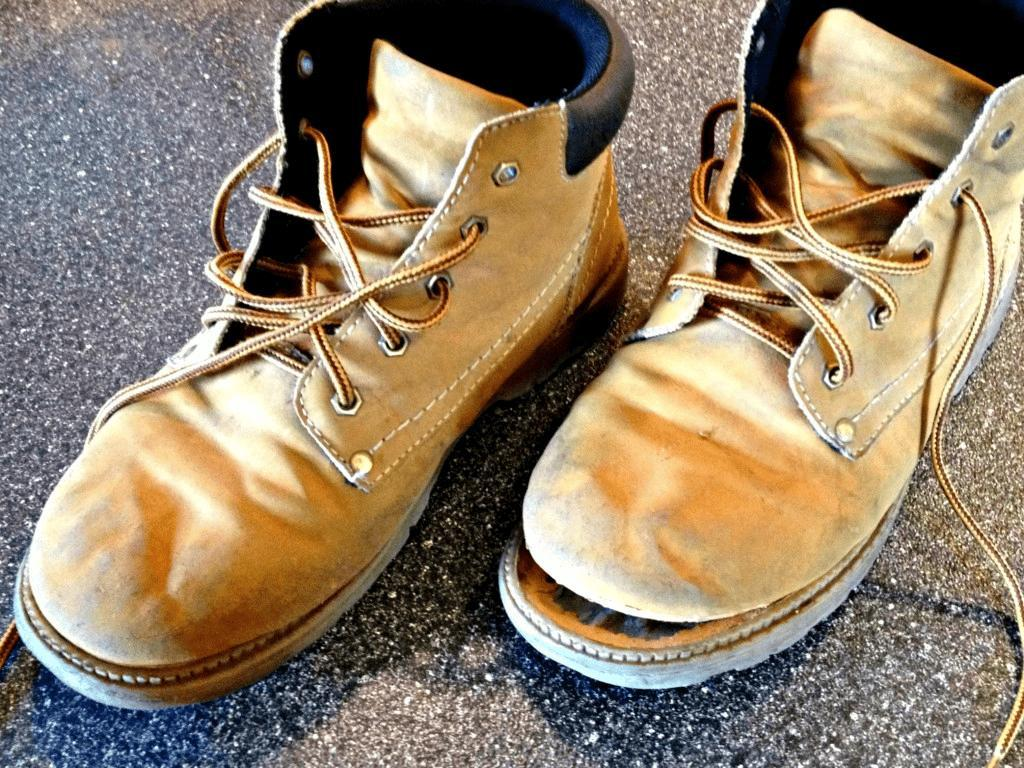bonding: (494, 481, 893, 666)
